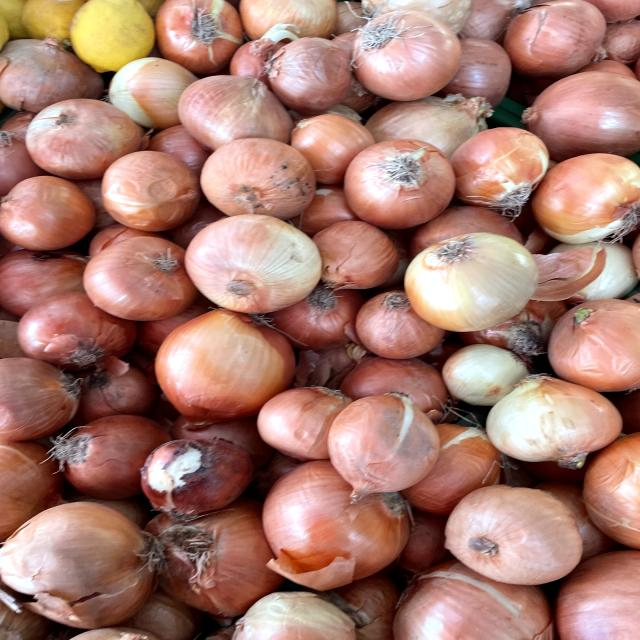onion: (433, 480, 603, 588), (182, 211, 326, 319), (398, 230, 542, 337), (313, 384, 440, 500), (340, 8, 471, 106), (17, 90, 151, 180), (342, 135, 462, 230), (79, 230, 189, 330)
